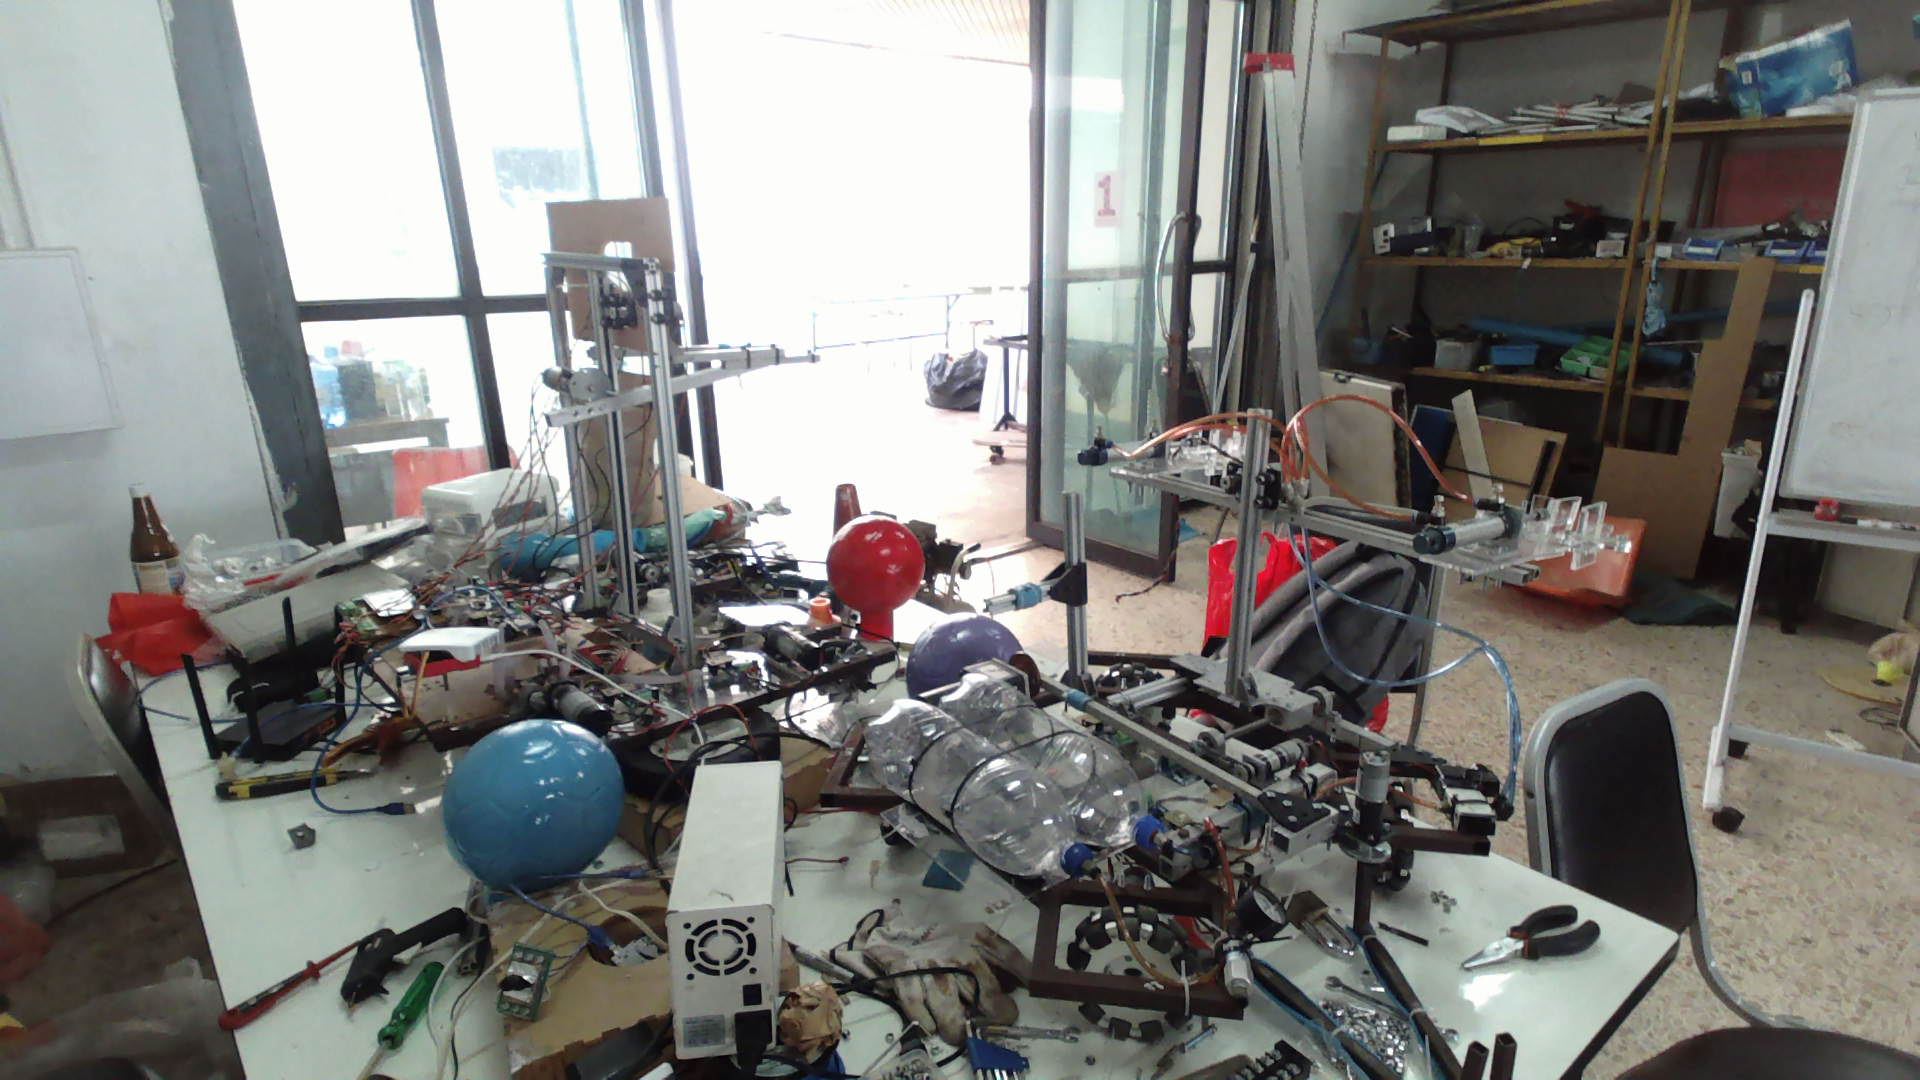Blue ball: (438, 713, 628, 887)
Purple ball: (907, 615, 1023, 678)
Red ball: (824, 514, 928, 618)
